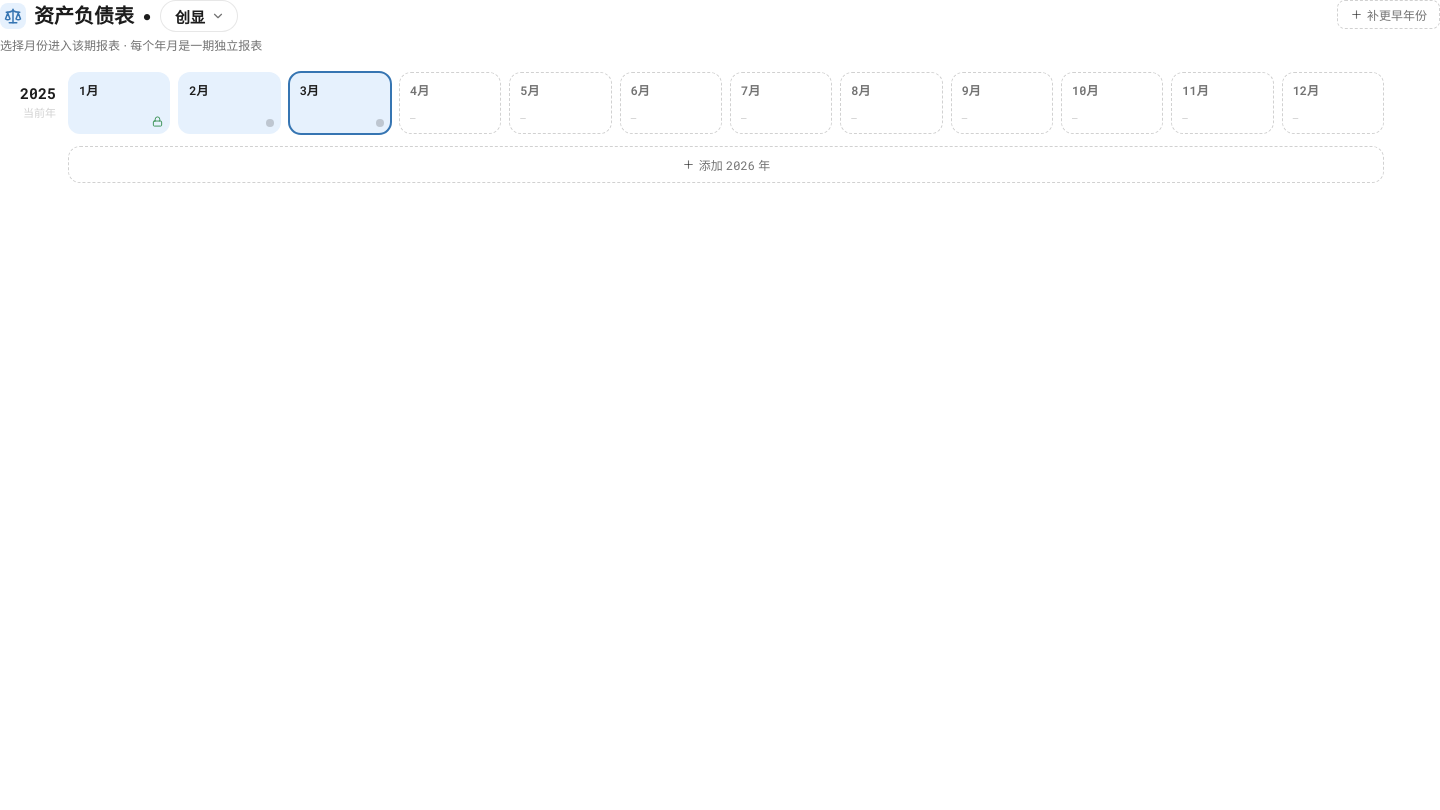
Test: 资产负债表 · 期间条 / 公司下拉 / 撤掉的东西 › ❗已审核:按钮位是灰药丸「已审核 · …」,没有交审
The image size is (1440, 810).
Step 1. Click the button with class "bmm-card" showing "1月" → (119, 103), box [68,72,170,134]
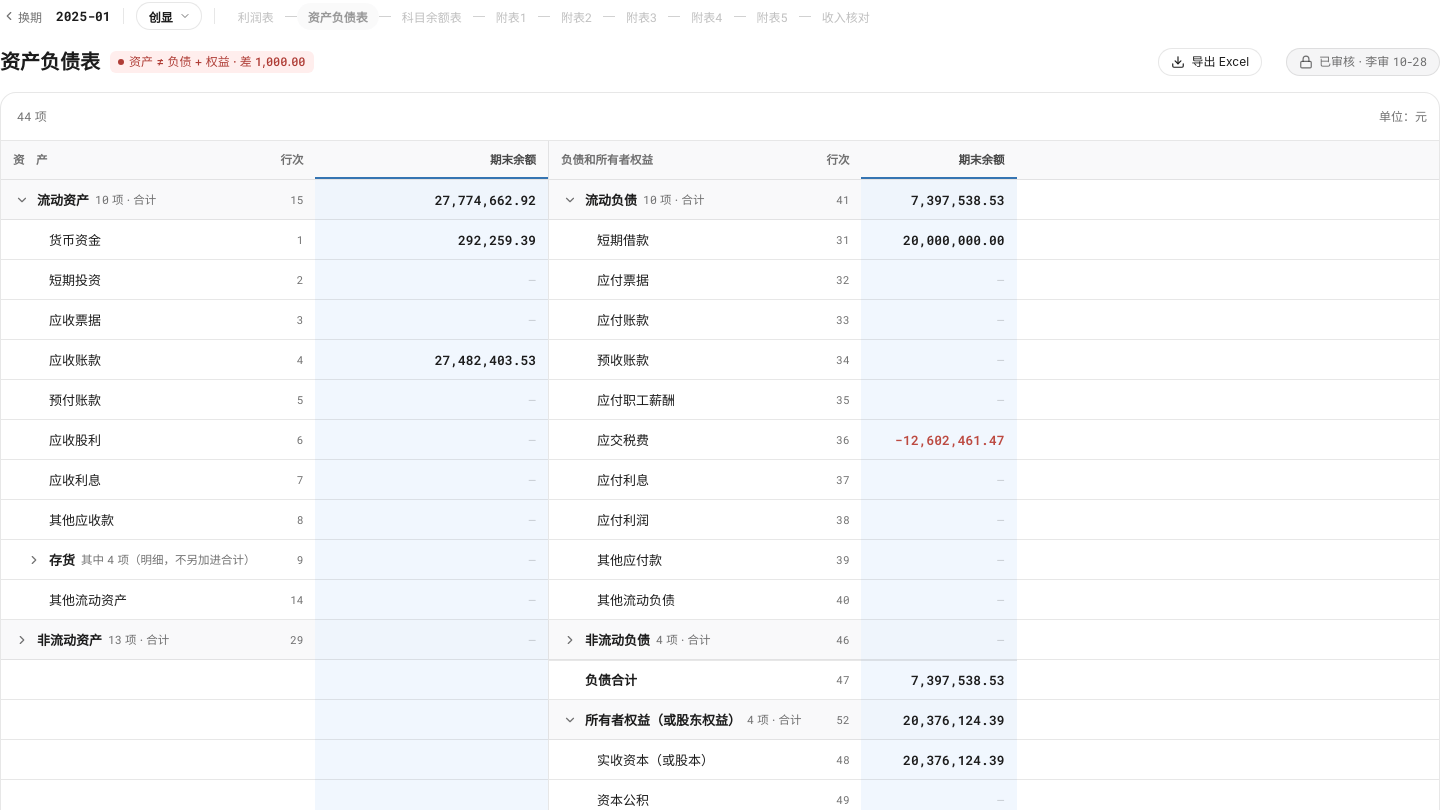
Check: the element with class "fp-emb-rv" shows "已审核", box [1319,54,1427,69]
